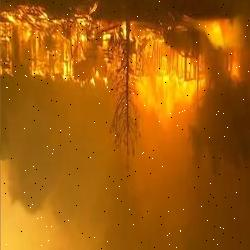fire: (0, 0, 248, 120)
